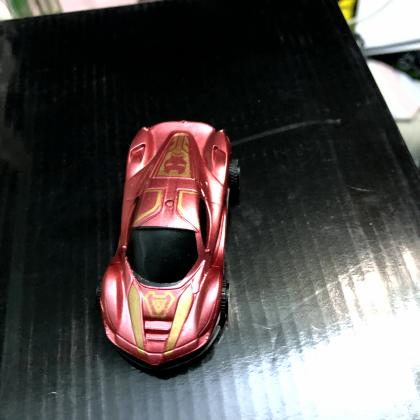Car: (99, 122, 231, 379)
